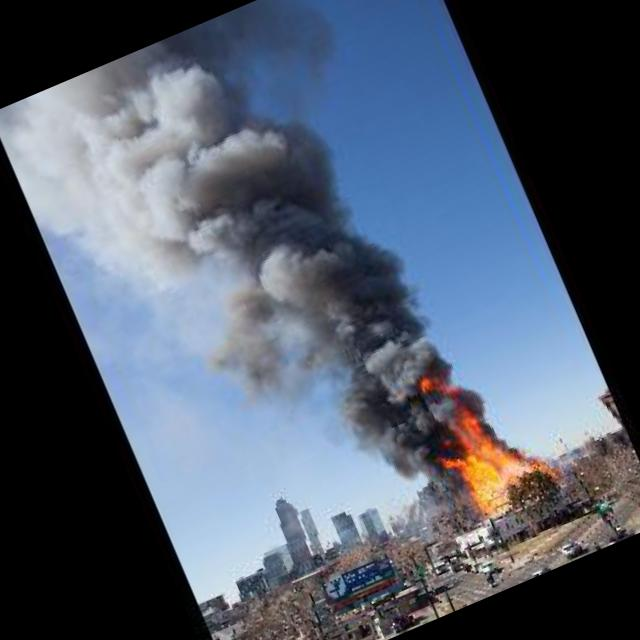fire: (426, 396, 552, 530)
smoke: (8, 0, 497, 548)
